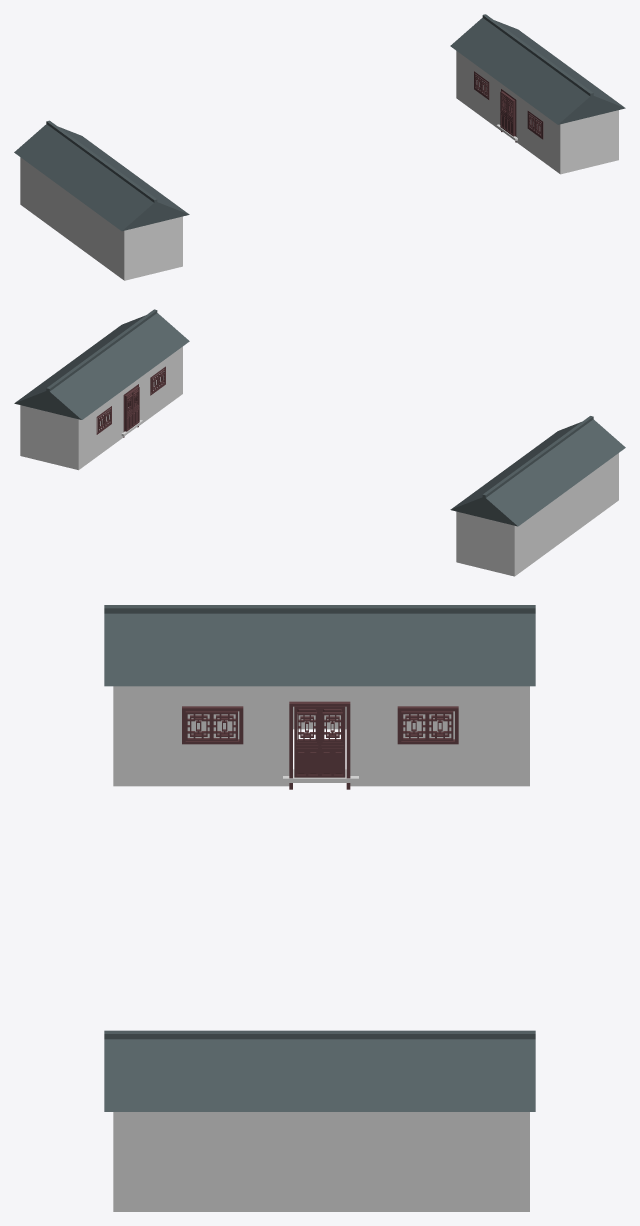
File: side_hall.fbx
The picture shows the model from 3 angles, top to bottom: view 1: azimuth 30°, elevation 25°; view 2: azimuth 150°, elevation 25°; view 3: azimuth 270°, elevation 25°; orthographic projection. The views are drawn at different scales.
Visible parts, largest first — view 1: Cube.026, Cube.023, Plane, Plane.006, Cube.073; view 2: Plane, Cube.026, Cube.023, Plane.006, Cube.073; view 3: Plane.006, Cube.026, Cube.023, Plane, Cube.086, Cube.076, Cube.003, Cube.081.
Boxes of the visible parts, x1,y1,x2,y2 form: Cube.026: (14, 120, 189, 231); Cube.023: (450, 14, 625, 124); Plane: (20, 157, 182, 280); Plane.006: (456, 51, 618, 174); Cube.073: (474, 71, 543, 139); Plane: (456, 453, 618, 576); Cube.026: (450, 416, 625, 526); Cube.023: (14, 309, 189, 419); Plane.006: (20, 346, 182, 470); Cube.073: (96, 366, 165, 434); Plane.006: (113, 1112, 529, 1211); Cube.026: (104, 605, 535, 686); Cube.023: (104, 1030, 535, 1111); Plane: (113, 686, 529, 786); Cube.086: (182, 706, 458, 744); Cube.076: (320, 706, 345, 777); Cube.003: (294, 706, 319, 777); Cube.081: (289, 701, 350, 789).
Size of the model in its own units: 4395 by 633 by 1627.
